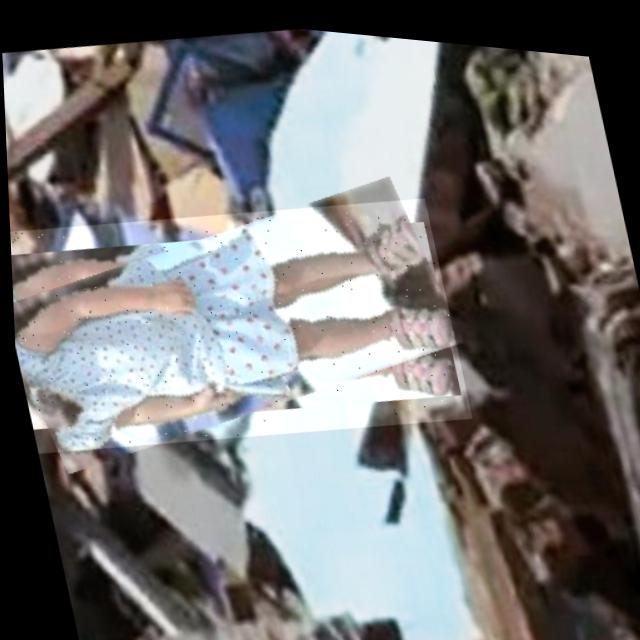Person in Rubble: (5, 156, 471, 484)
